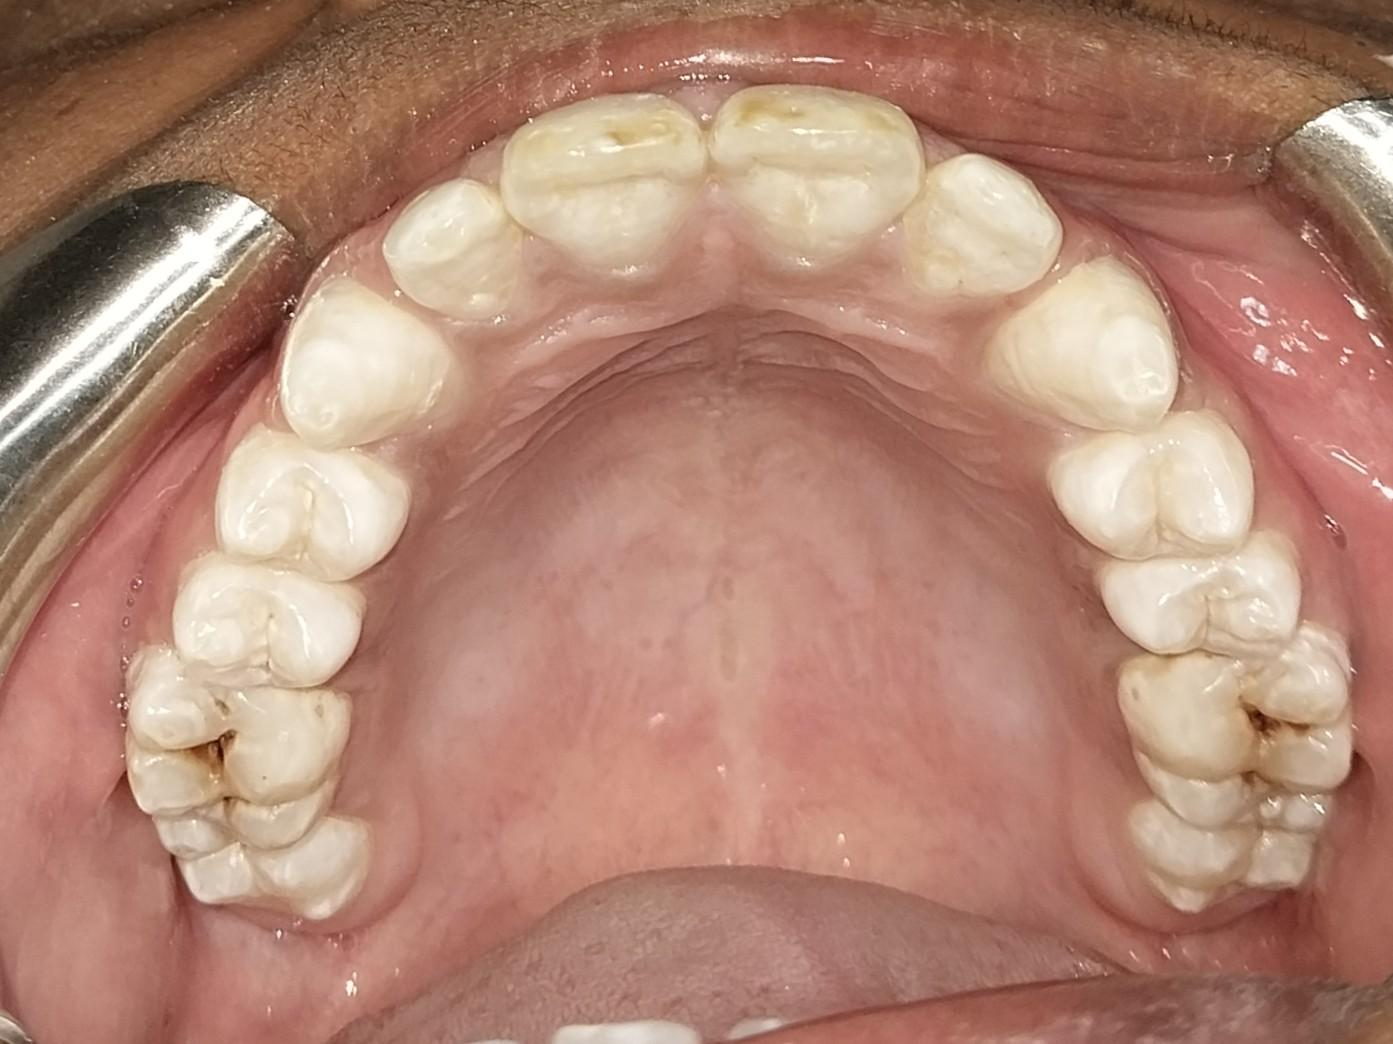D: (1117, 626, 1356, 835), (117, 651, 350, 861)
